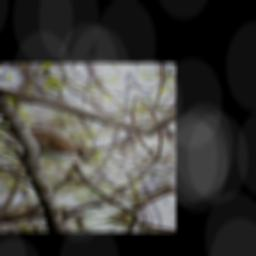Cuckoo: (0, 102, 91, 176)
